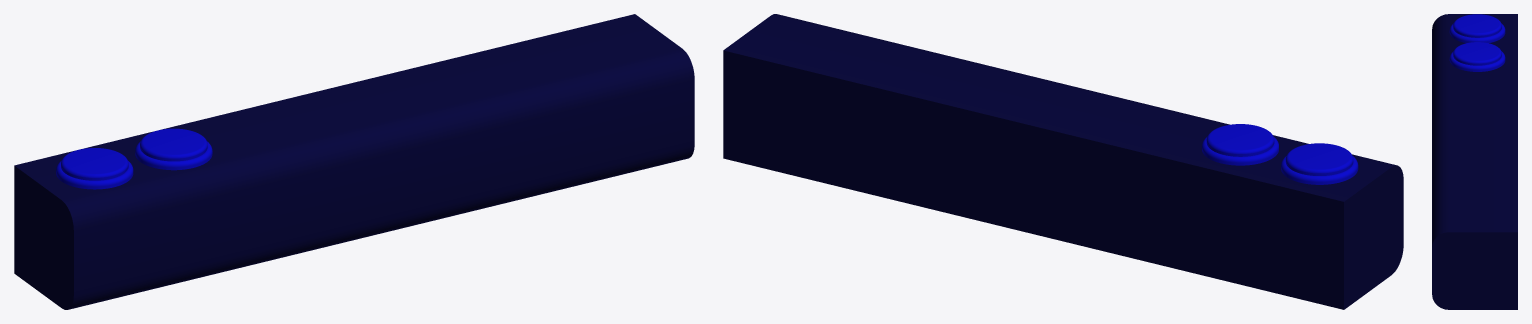
File: bottomWall.dae
3 views of the same model, side by side, from view 1: azimuth 30°, elevation 25°; view 2: azimuth 150°, elevation 25°; view 3: azimuth 270°, elevation 25° (orthographic). The views are drawn at different scales.
Visible parts, largest first — view 1: wall; view 2: wall; view 3: wall.
Part boxes in pixels (x1,y1,x2,y2): wall: [14, 14, 694, 309]; wall: [723, 14, 1403, 309]; wall: [1432, 14, 1517, 309].
Bounding box in the file's own units: 0.3006 × 0.0556 × 0.05.
